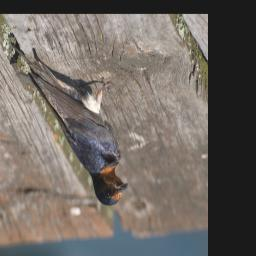Swallow: (9, 39, 129, 208)
